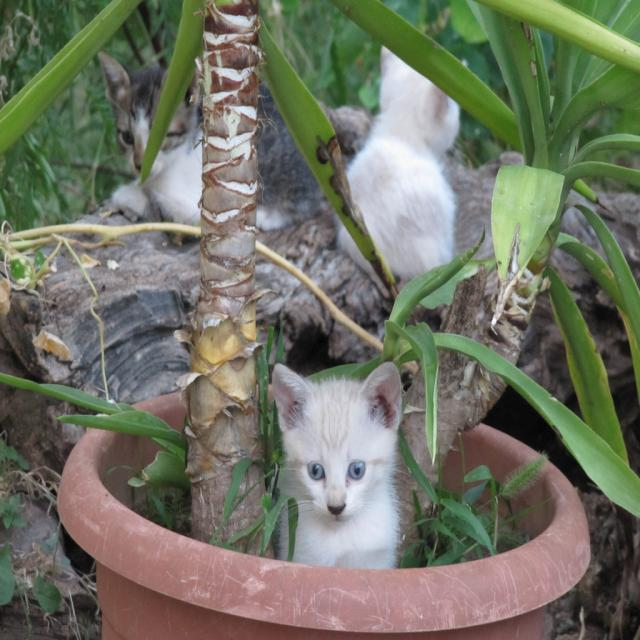cat: (272, 362, 401, 568), (348, 47, 459, 279), (100, 52, 201, 224), (256, 85, 325, 230), (331, 110, 371, 156)
